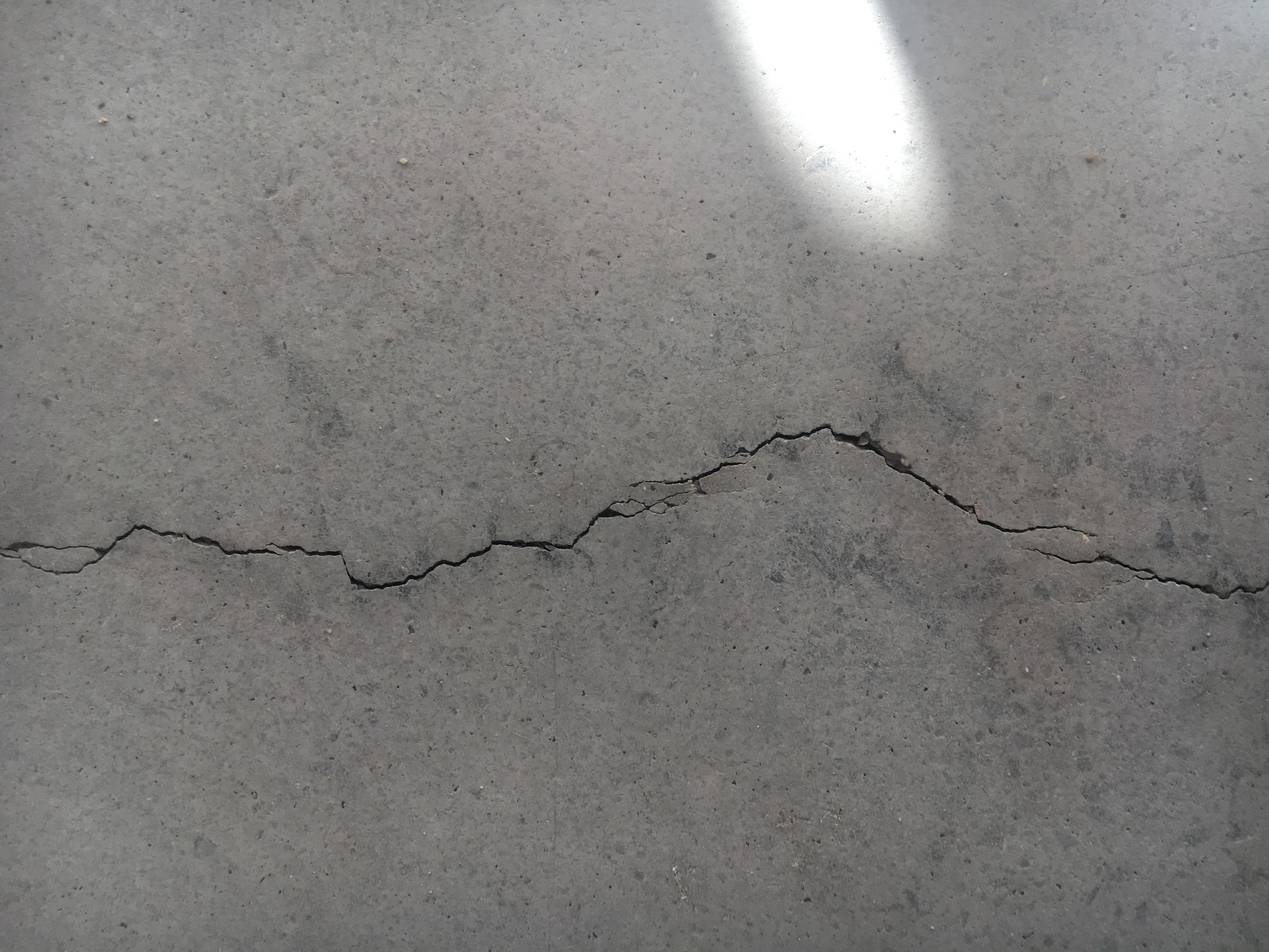Horizontal Settlement Crack: (3, 417, 1265, 604)
